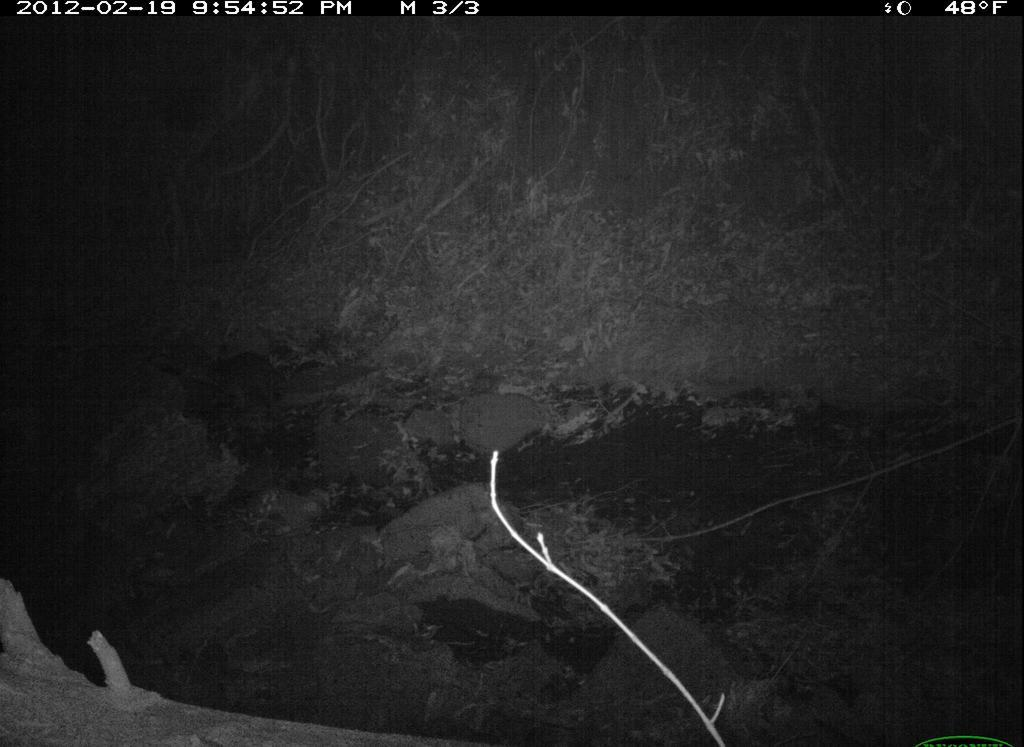raccoon: (198, 336, 290, 411)
